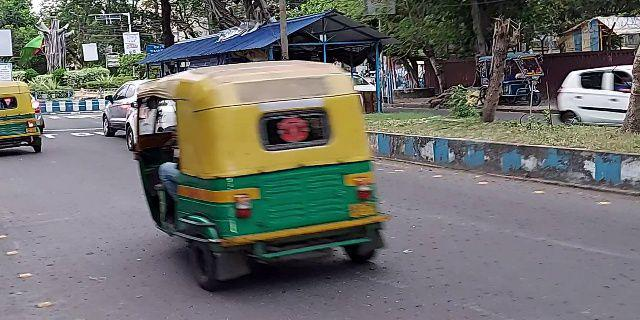Autorickshaw: (136, 64, 412, 287), (1, 72, 50, 159)
Car: (97, 79, 137, 137)
